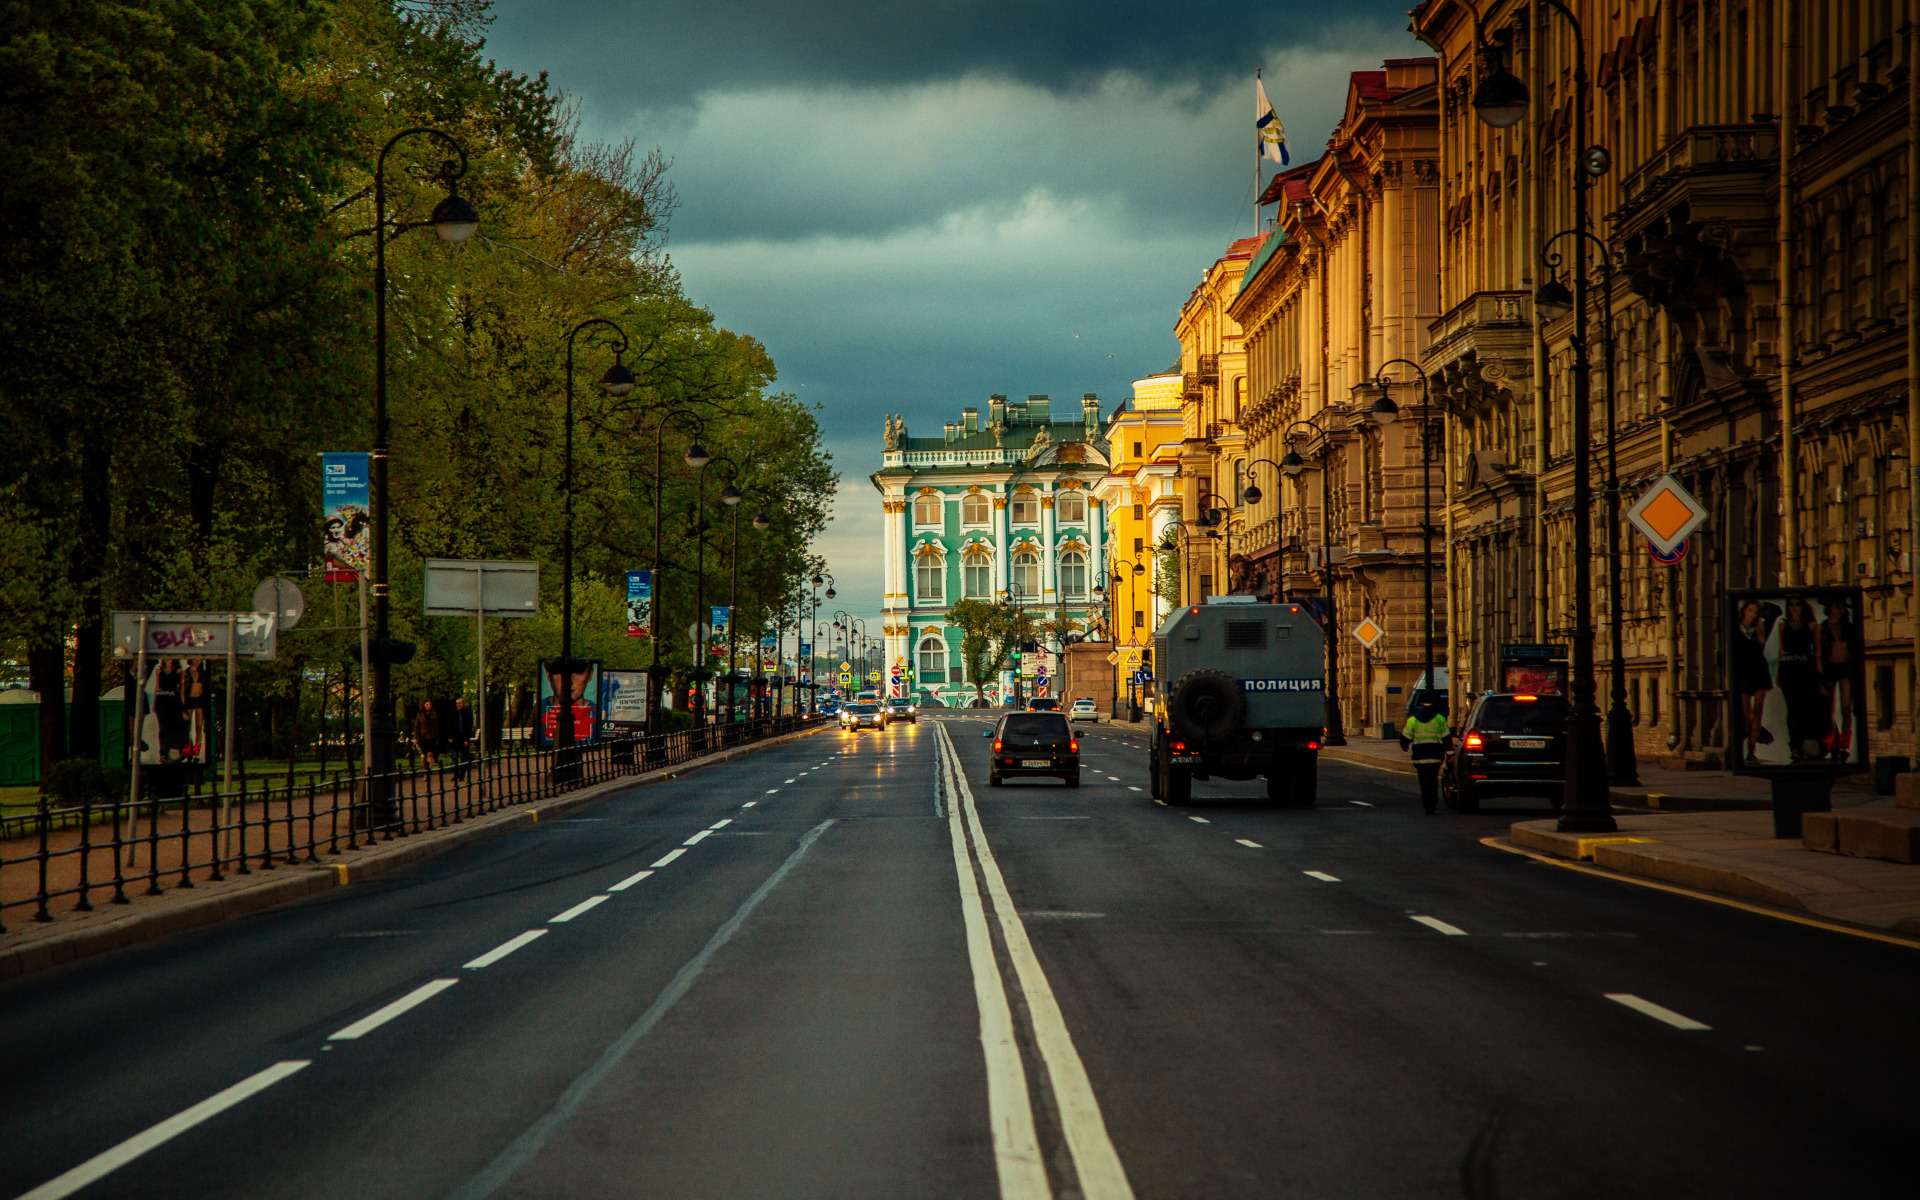sign: (1626, 469, 1710, 559), (1648, 529, 1689, 564), (1353, 617, 1384, 648), (763, 658, 777, 672), (838, 659, 851, 672), (894, 654, 908, 666), (894, 666, 907, 680), (839, 672, 851, 684), (1037, 675, 1049, 687), (1035, 648, 1048, 659), (868, 671, 881, 682), (1035, 664, 1046, 675), (890, 665, 901, 676), (890, 675, 901, 686)
